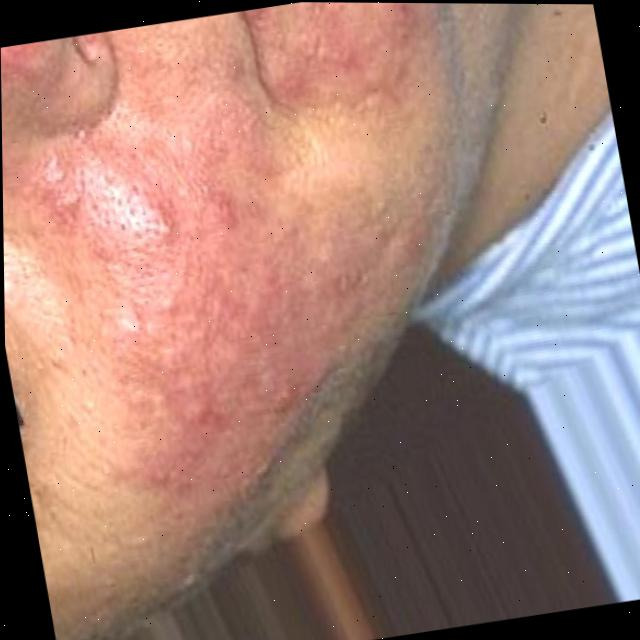Rosacea: (39, 103, 400, 500)
